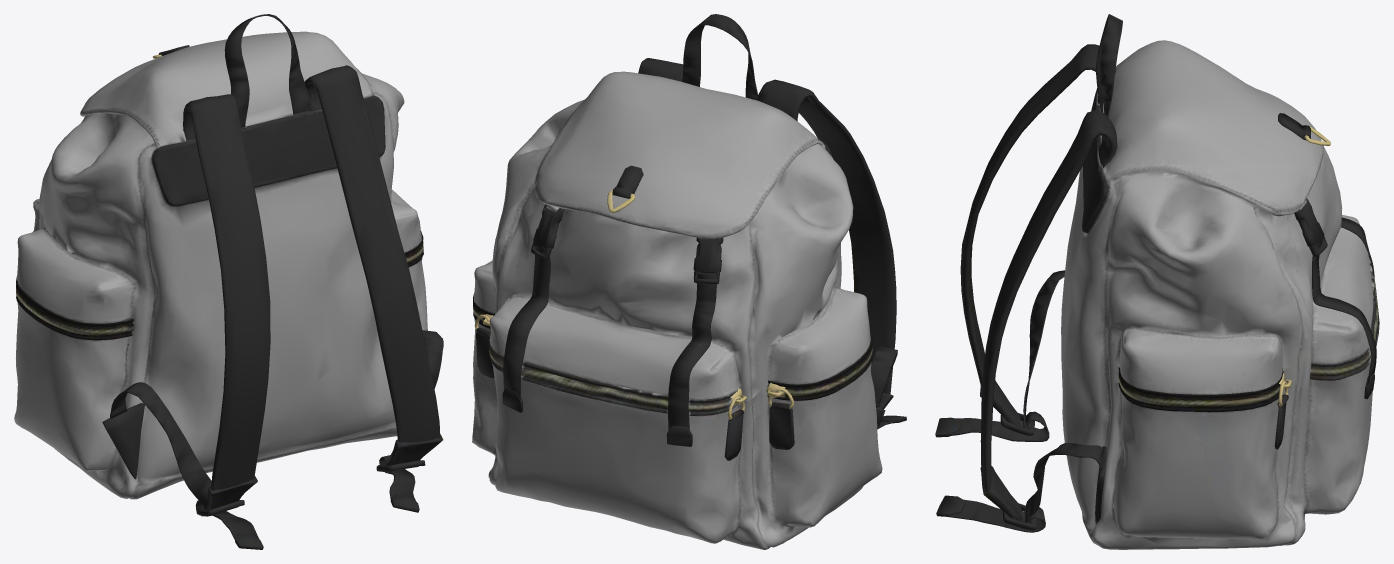
File: backpack-large.glb
The picture shows the model from 3 angles, left to right: view 1: azimuth 30°, elevation 25°; view 2: azimuth 150°, elevation 25°; view 3: azimuth 270°, elevation 25°; orthographic projection. The views are drawn at different scales.
Visible parts, largest first — view 1: Object_0; view 2: Object_0; view 3: Object_0.
Part boxes in pixels (bbox=[...]): Object_0: bbox=[14, 14, 443, 549]; Object_0: bbox=[472, 14, 906, 549]; Object_0: bbox=[935, 14, 1379, 549].
Size of the model in its own units: 0.4696 by 0.55 by 0.4782.
1 material, 1 textured.
